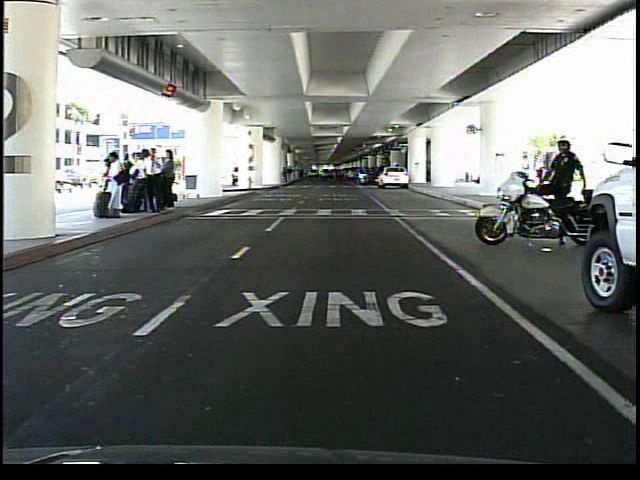person: (538, 130, 585, 253)
